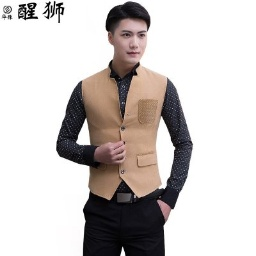face: (104, 1, 152, 65)
